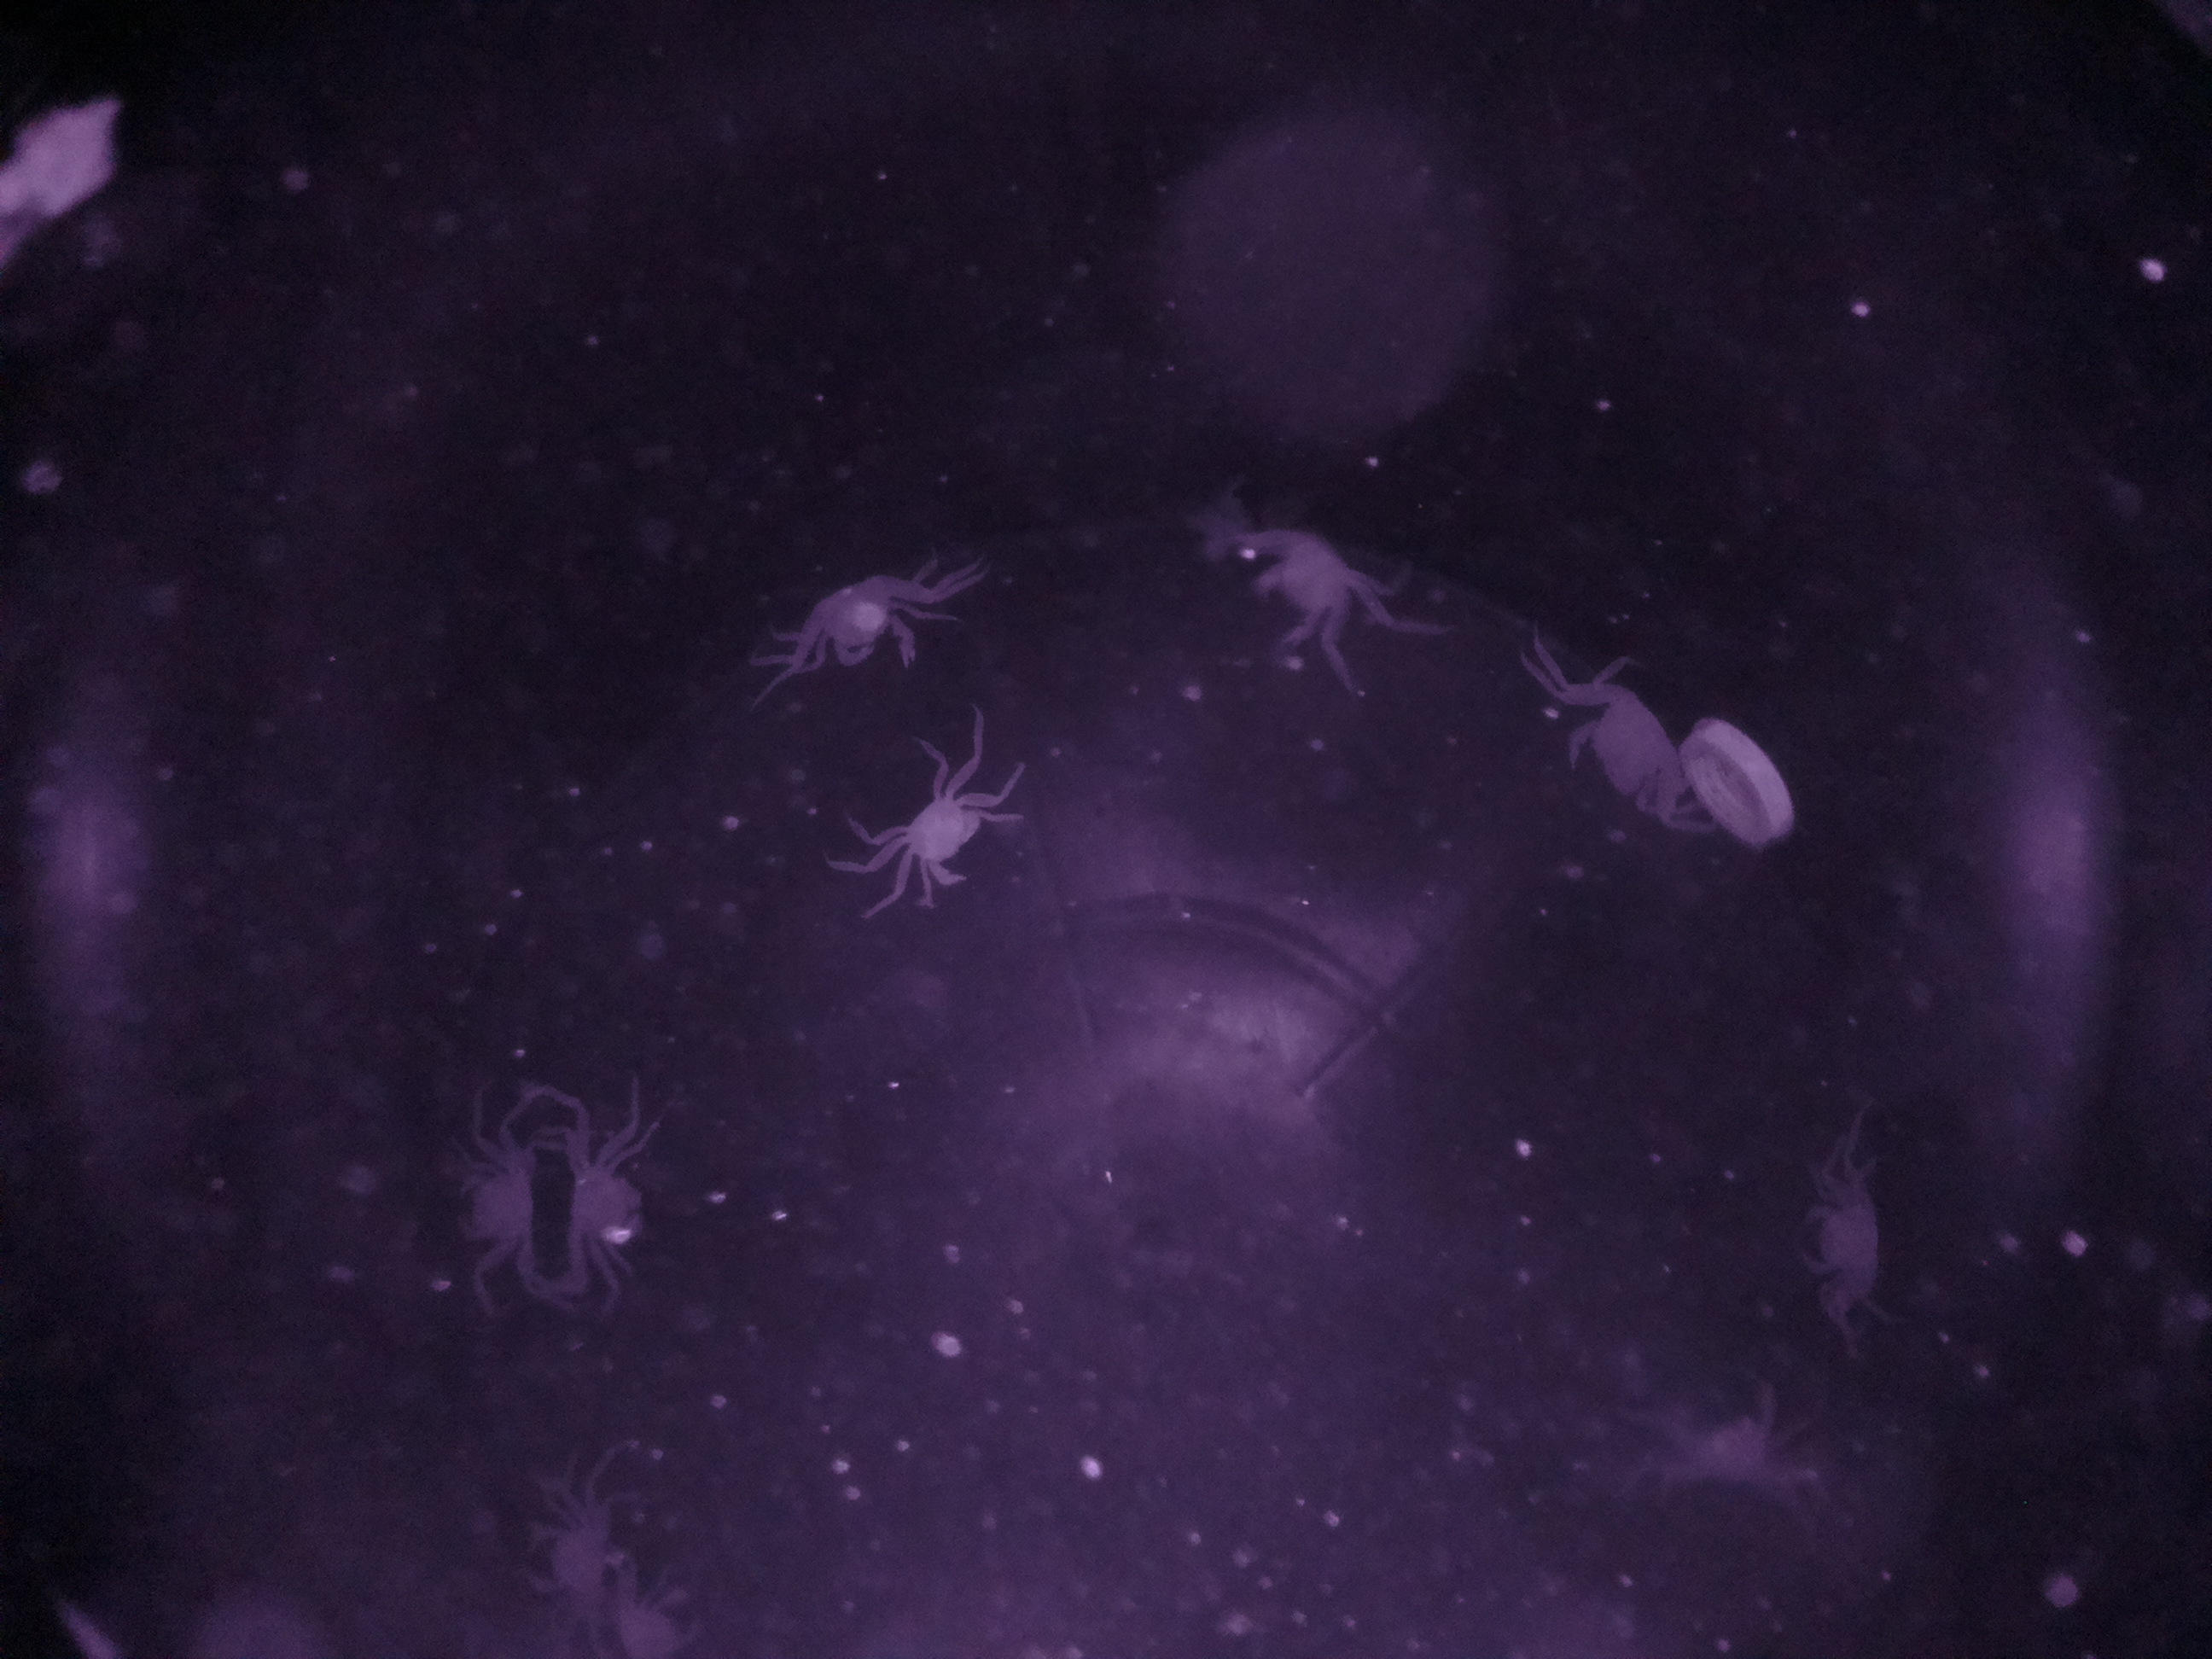Crab: (1214, 477, 1378, 692), (869, 751, 1059, 922), (420, 1077, 547, 1314), (805, 540, 967, 694), (563, 1108, 681, 1312)
